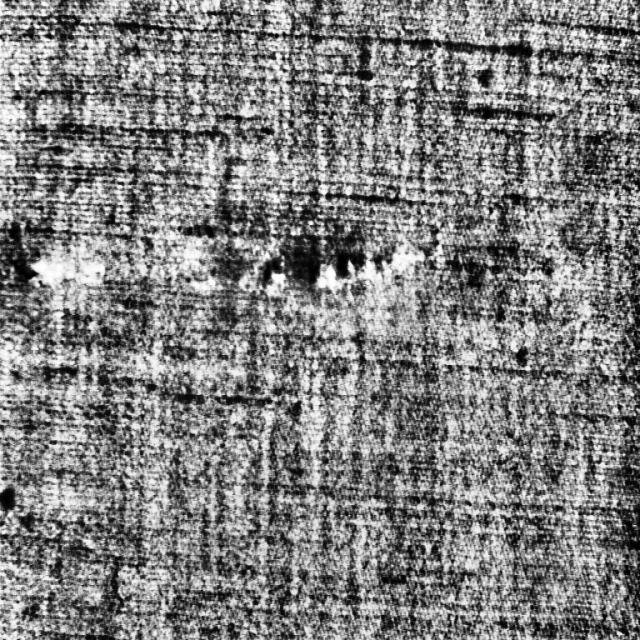Stitch: (236, 236, 429, 294), (6, 248, 110, 292)
